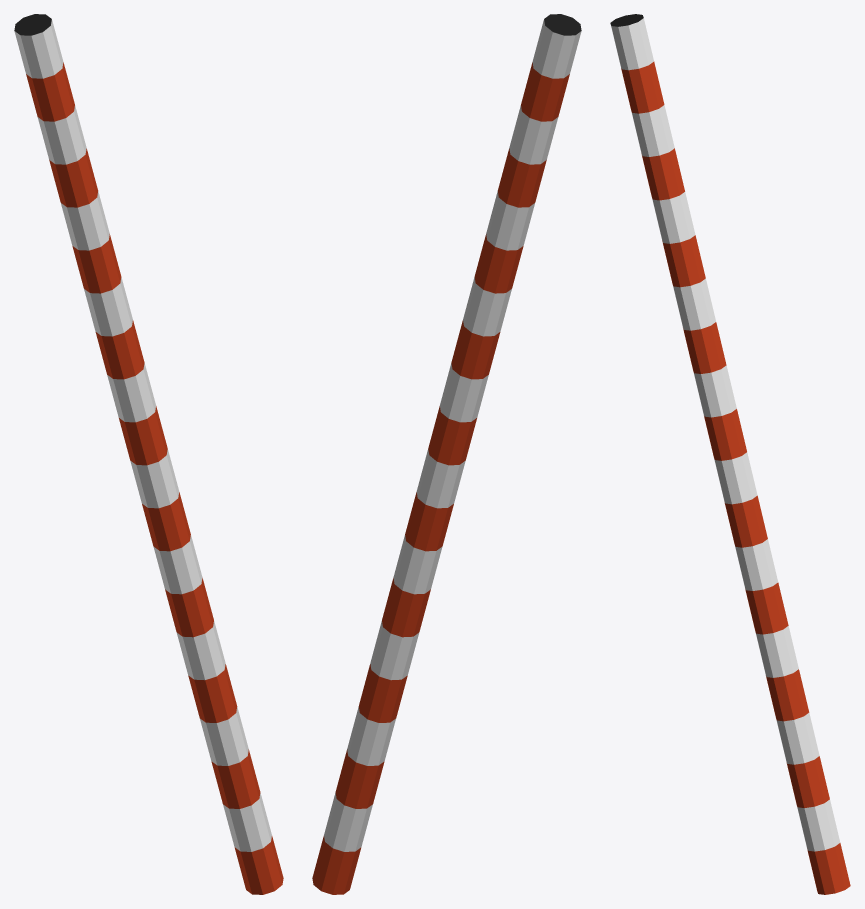
File: red_straw.glb
The picture shows the model from 3 angles, left to right: view 1: azimuth 30°, elevation 25°; view 2: azimuth 150°, elevation 25°; view 3: azimuth 330°, elevation 25°; orthographic projection. The views are drawn at different scales.
Parts seen in each view (by area): view 1: Milkshake Cherry; view 2: Milkshake Cherry; view 3: Milkshake Cherry.
Part boxes in pixels (<box>): Milkshake Cherry: <box>14,14,283,894</box>; Milkshake Cherry: <box>312,14,581,894</box>; Milkshake Cherry: <box>610,14,850,894</box>.
Bounding box in the file's own units: 0.0837 × 0.281 × 0.0109.
Materials: 1 (1 with a texture image).
